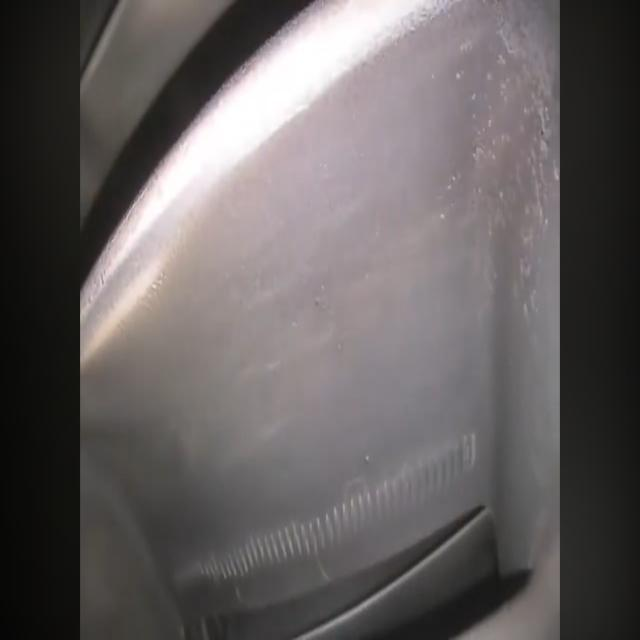crack: (79, 0, 494, 622)
